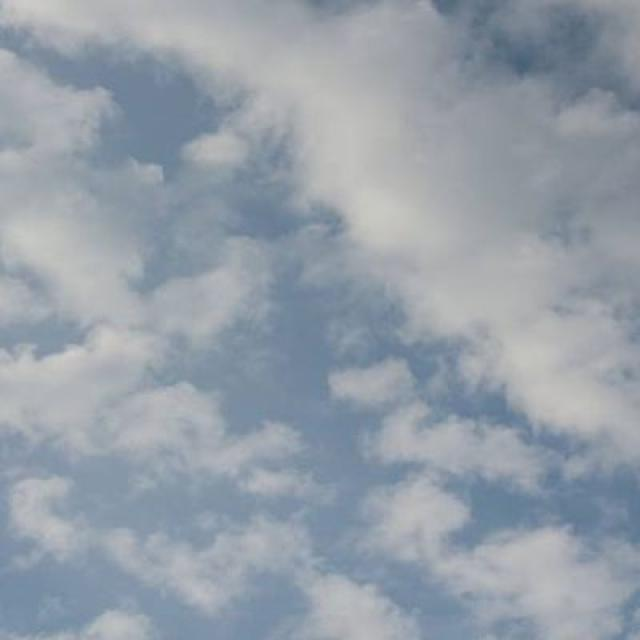Cc: (1, 62, 640, 576)
